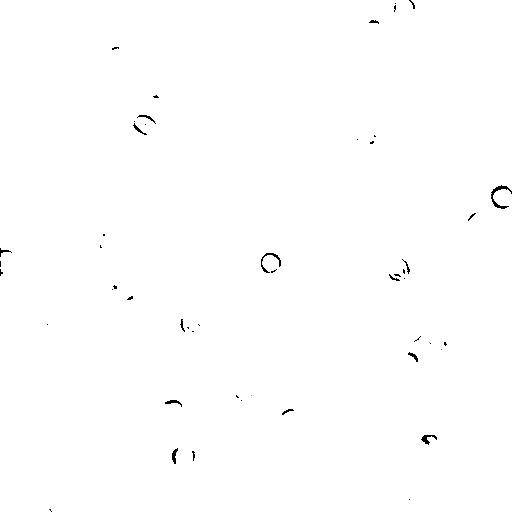micro-algae: (110, 283, 145, 314), (393, 485, 433, 512), (91, 222, 121, 257), (391, 101, 417, 139), (89, 277, 118, 305), (385, 254, 412, 283), (170, 442, 198, 468), (103, 44, 132, 69), (465, 208, 491, 235), (258, 250, 283, 277), (399, 321, 426, 346), (277, 407, 305, 431), (489, 183, 512, 210), (132, 114, 158, 137), (178, 312, 204, 335), (392, 1, 419, 23), (361, 18, 385, 42), (27, 310, 51, 334), (160, 398, 187, 419), (426, 363, 447, 390), (1, 248, 21, 276), (167, 240, 188, 265), (355, 126, 378, 148), (287, 367, 305, 394), (235, 383, 259, 403), (42, 148, 63, 170), (427, 332, 449, 353), (400, 350, 421, 371), (289, 19, 309, 40), (23, 500, 56, 512), (420, 432, 443, 447)
